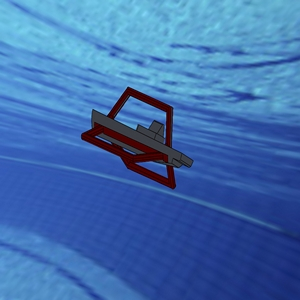submarine: (68, 42, 207, 206)
